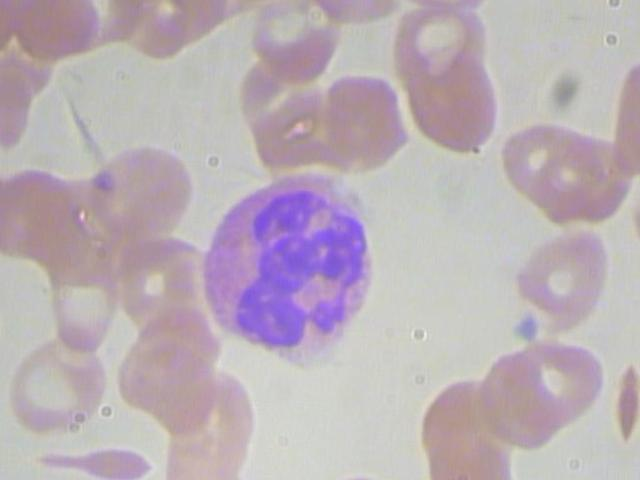Platelets: (506, 311, 544, 346)
RBC: (504, 330, 617, 444), (89, 130, 202, 244), (3, 328, 116, 441), (505, 222, 618, 335), (391, 48, 504, 161), (308, 63, 421, 176)
WBC: (179, 155, 392, 370)
